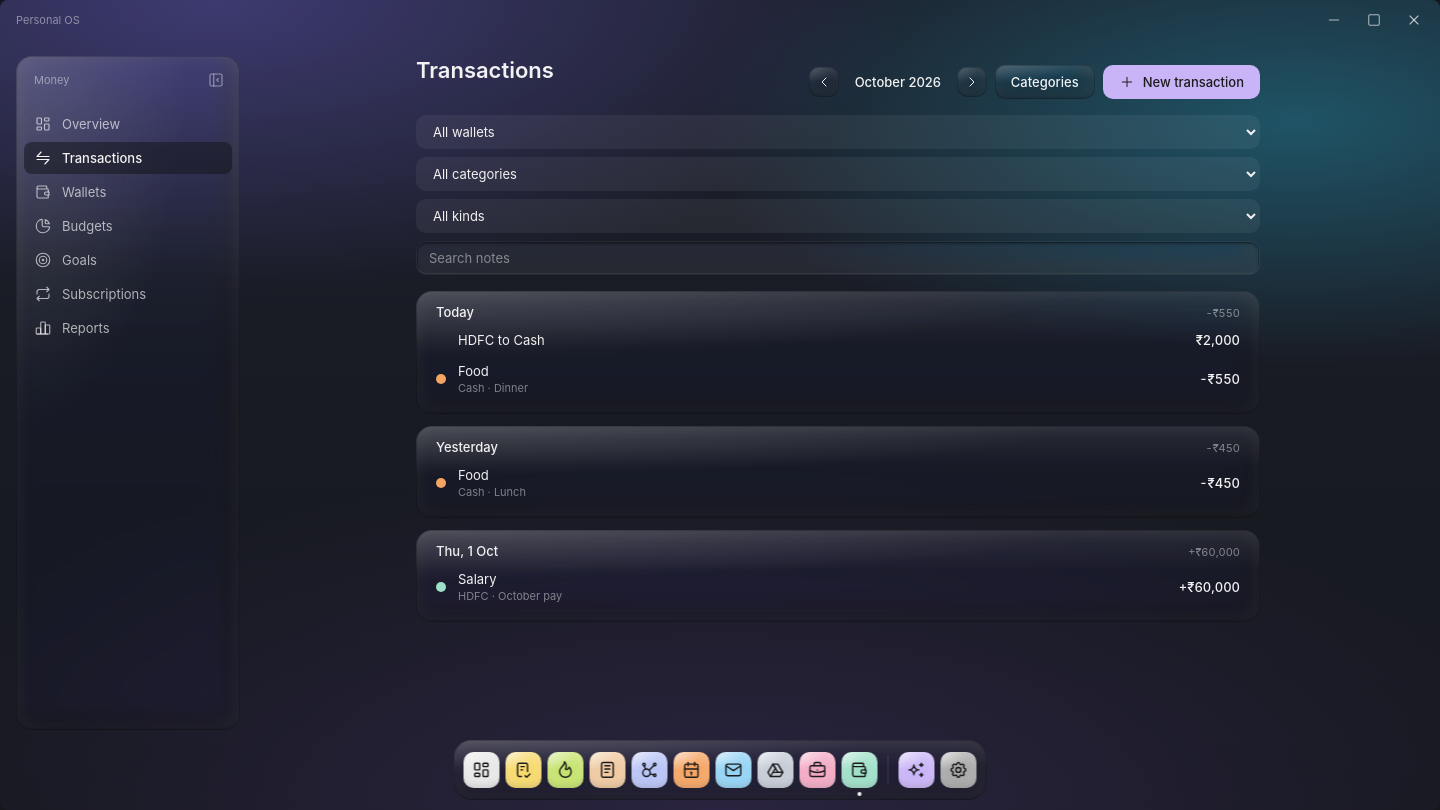
Test: Transactions list › filters by kind, category and text
Expected: the heading "Transactions" is shown, [416,56,554,84]
Expected: the element "Today" is shown, [416,291,1260,414]
Select "Income" in the dropdown named "Kind" at [838, 216], box [416,199,1260,233]
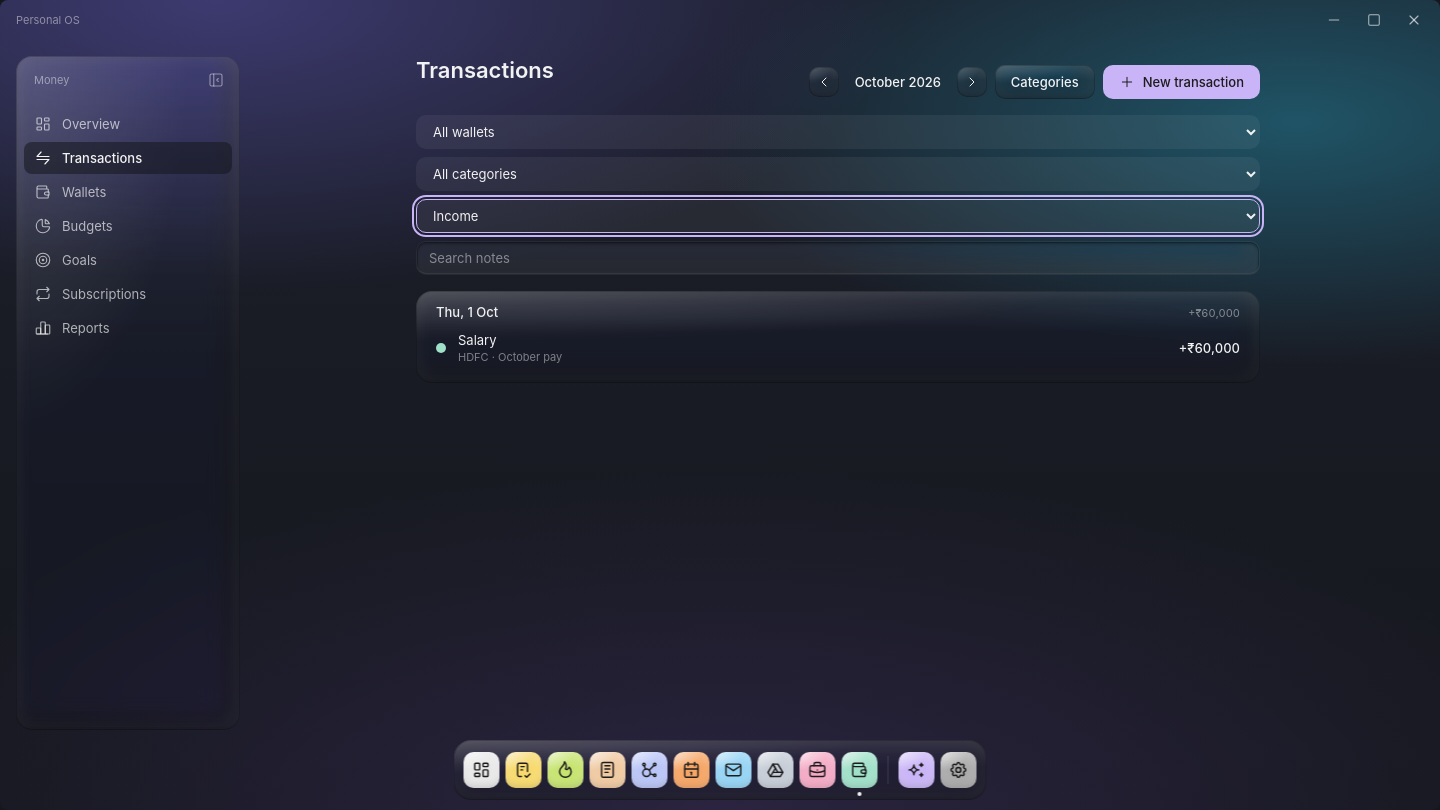
Expected: the button "Salary HDFC · October pay +₹60,000" is shown, [428,325,1248,371]
Expected: the button "Dinner" is gone
Select "All kinds" in the dropdown named "Kind" at [838, 216], box [416,199,1260,233]
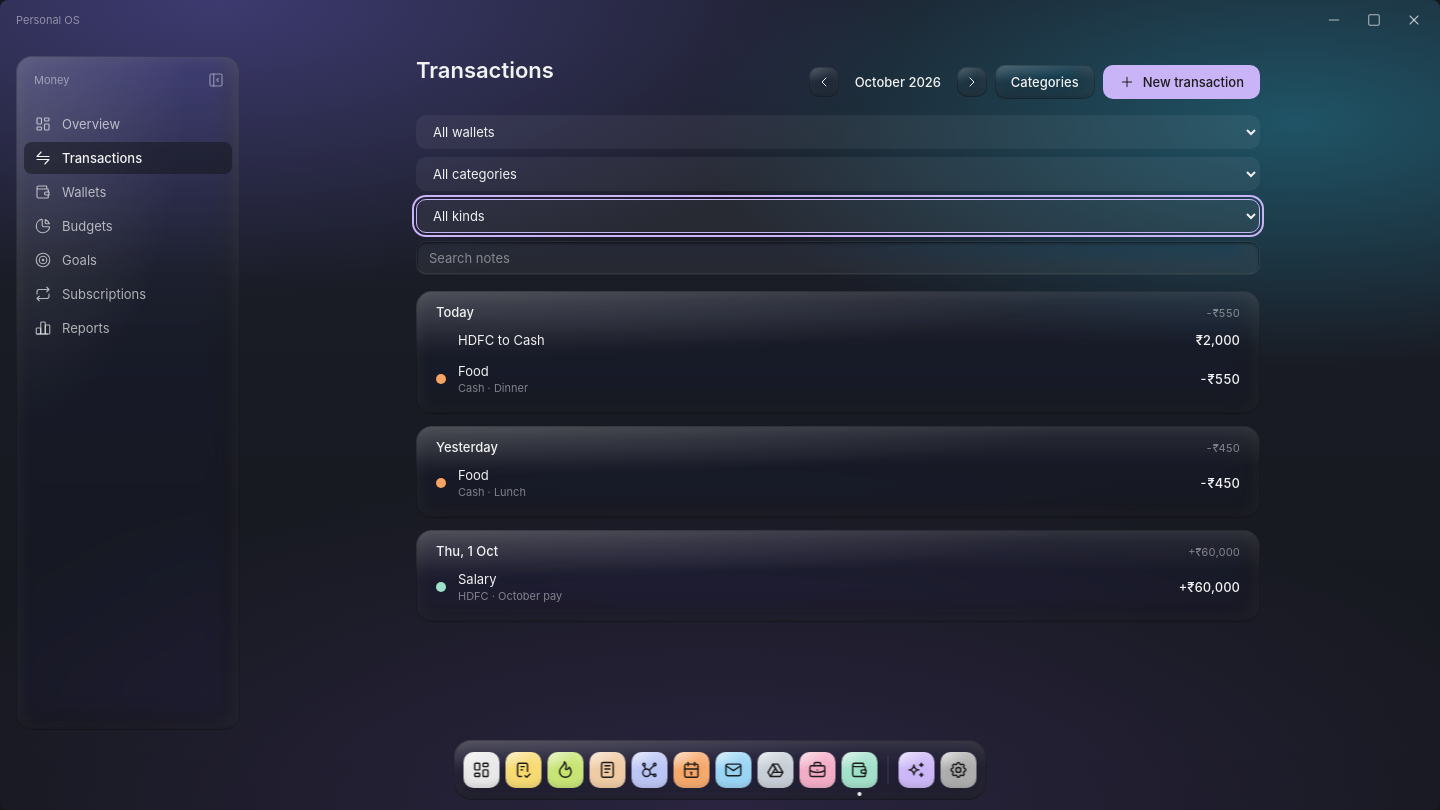
Type "lunch" into the search field labelled "Search notes".
click(838, 258); type("lunch")  # box [416,241,1260,275]
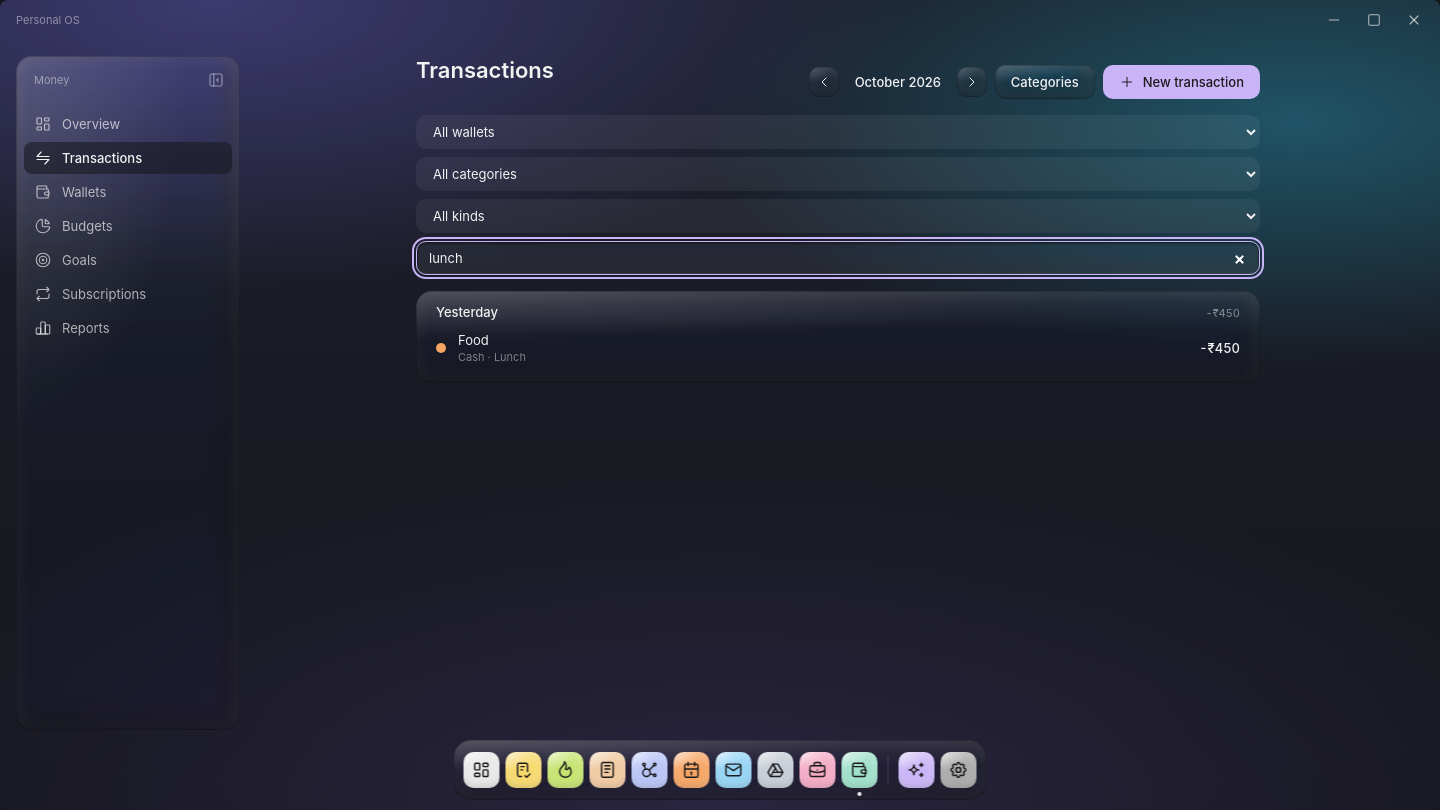
Expected: the button "Food Cash · Lunch -₹450" is shown, [428,325,1248,371]
Expected: the button "Dinner" is gone
Clear the search field named "Search notes" at [838, 258], box [416,241,1260,275]
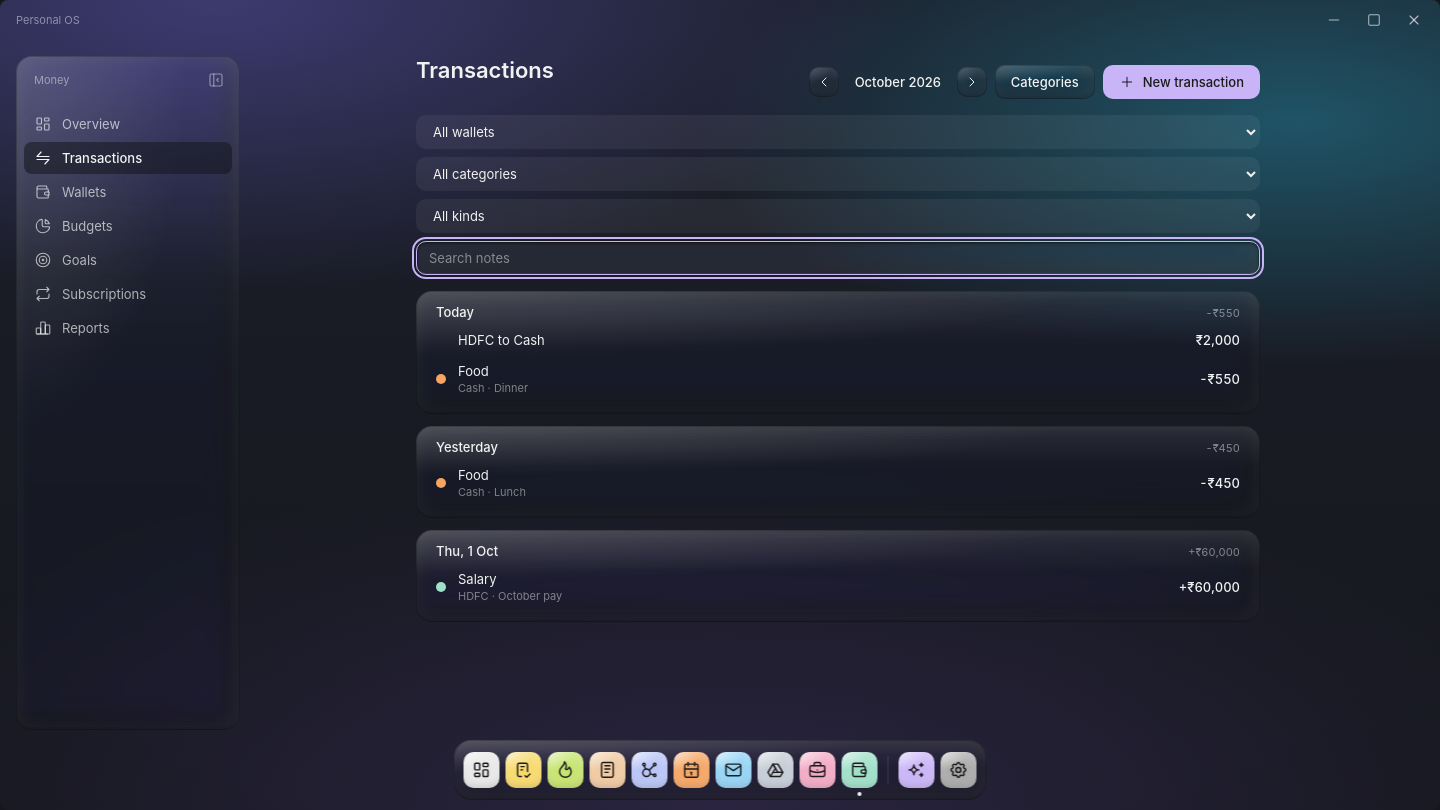
Select "Salary" in the dropdown named "Category" at [838, 174], box [416,157,1260,191]
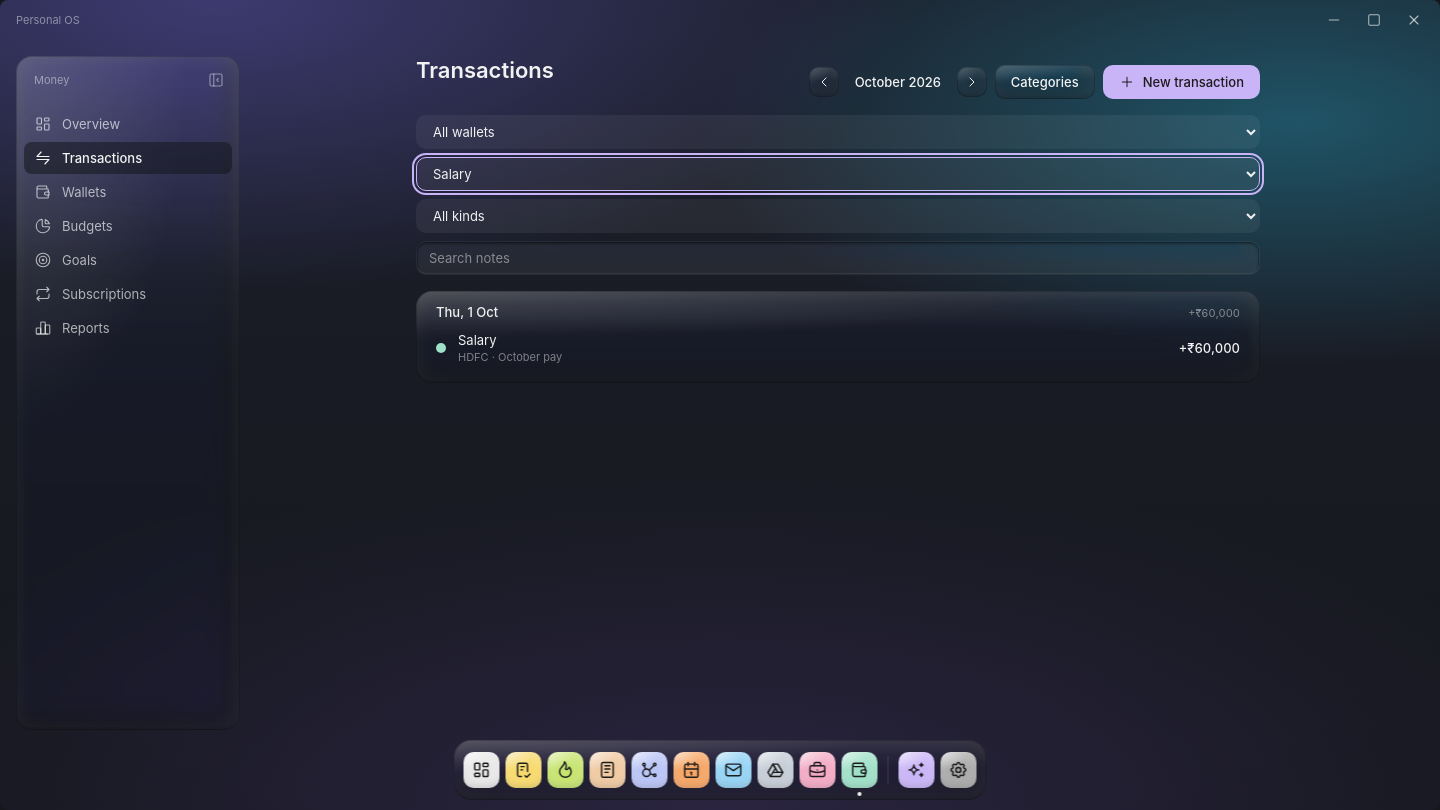
Expected: the button "Lunch" is gone
